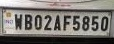numberplate: (1, 8, 110, 36)
